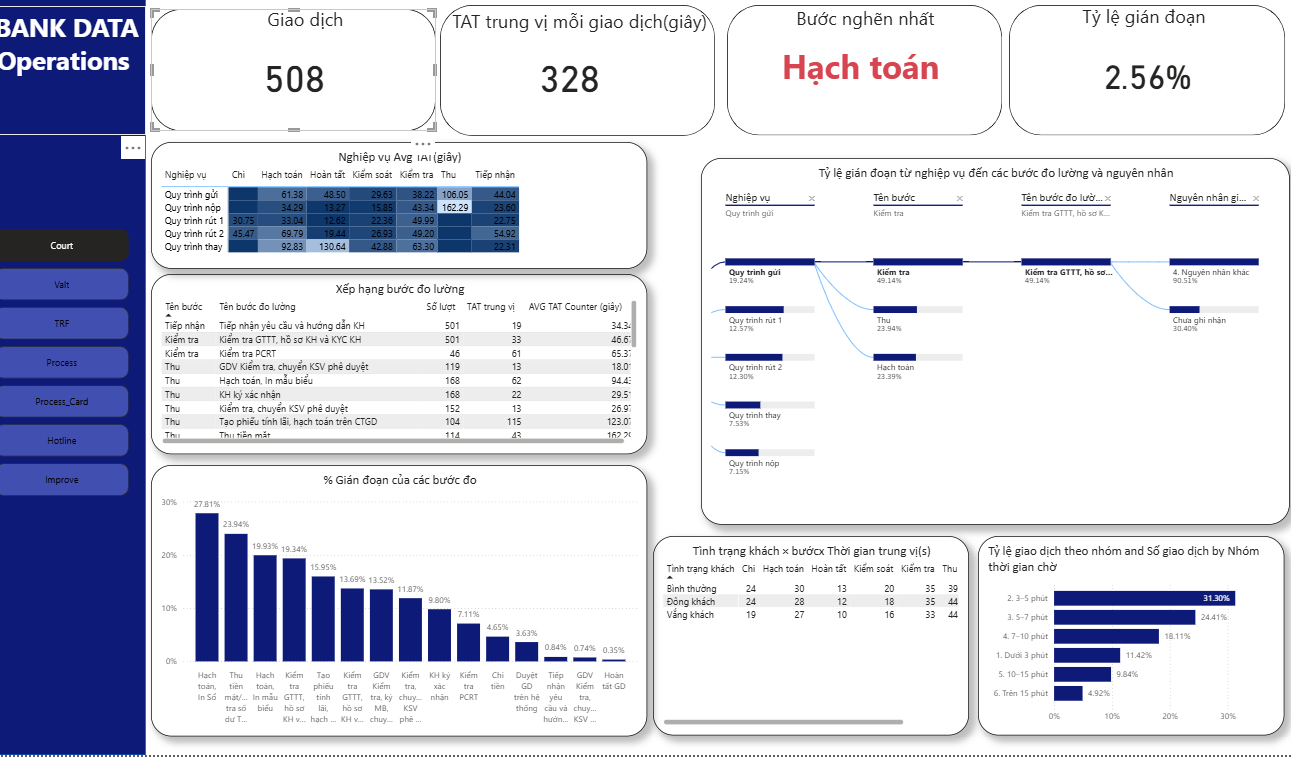

The dashboard page shown, as its layout file describes it:
{"tool":"powerbi","page":{"name":"Court","canvas":[1920,1109],"ordinal":0},"visuals":[{"type":"shape","box":[11,0,230.4,1109],"z":0},{"type":"textbox","box":[23.1,15.4,184.6,188.5],"z":1000},{"type":"pageNavigator","box":[22.1,340.7,195.9,394.5],"z":2000},{"type":"shape","box":[250,20.7,415.5,178.3],"z":3000},{"type":"textbox","box":[316.6,11.7,331.2,55.4],"z":4000},{"type":"cardVisual","fields":{"Data":["Measure_counter.Số giao dịch"]},"box":[394.8,66.9,173.5,93.9],"z":5000},{"type":"shape","box":[1500.7,15.2,402.8,190.4],"z":6000},{"type":"textbox","box":[1533.4,7.3,337,48.1],"z":7000},{"type":"cardVisual","fields":{"Data":["Measure_counter.Bước nghẽn nhất"]},"box":[1152.2,34.3,291,125.4],"z":8000},{"type":"shape","box":[1089.7,15.2,401.4,190.4],"z":9000},{"type":"textbox","box":[1121.4,9.7,339.3,56.6],"z":10000},{"type":"cardVisual","fields":{"Data":["Measure_counter.%Gián đoạn"]},"box":[1580.6,67.2,247.8,92.5],"z":11000},{"type":"shape","box":[671.8,14.3,401.2,191],"z":12000},{"type":"textbox","box":[675.9,15.2,398.6,56.6],"z":13000},{"type":"cardVisual","fields":{"Data":["Measure_counter.TAT Trung vị mỗi giao dịch (giây) Counter"]},"box":[800,67.6,182.1,93.8],"z":14000},{"type":"pivotTable","title":"Tình trạng khách × bướcx Thời gian trung vị(s)","fields":{"Rows":["Fact_Unit_01_Counter.Tình trạng khách"],"Values":["Measure_counter.TAT trung vị"],"Columns":["Dim_Unit_01_Counter _CácBước.Tên bước"]},"box":[982.2,790,461.1,291.1],"z":15000},{"type":"clusteredBarChart","fields":{"Category":["Fact_Unit_01_Counter.Nhóm thời gian chờ"],"Y":["Measure_counter.Tỷ lệ giao dịch theo nhóm"]},"box":[1456.7,790,446.7,291.1],"z":16000},{"type":"pivotTable","title":"Nghiệp vụ Avg TAT ","fields":{"Rows":["Dim_Unit_01_Counter _CácBước.Nghiệp vụ"],"Values":["Measure_counter.AVG TAT Counter (giây)"],"Columns":["Dim_Unit_01_Counter _CácBước.Tên bước"]},"box":[448.9,215.6,525.6,184.4],"z":18000},{"type":"clusteredColumnChart","title":"% Gián đoạn của các bước đo","fields":{"Category":["Dim_Unit_01_Counter _CácBước.Tên bước đo lường"],"Y":["Measure_counter.Tỷ lệ gián đoạn theo bước"]},"box":[250,685.6,724.4,395.6],"z":19000},{"type":"decompositionTreeVisual","title":"Tỷ lệ gián đoạn từ nghiệp vụ đến các bước đo lường và nguyên nhân","fields":{"ExplainBy":["Dim_Unit_01_Counter _CácBước.Nghiệp vụ","Dim_Unit_01_Counter _CácBước.Tên bước","Dim_Unit_01_Counter _CácBước.Tên bước đo lường","Fact_Unit_01_Counter.Nguyên nhân gián đoạn"],"Analyze":["Measure_counter.Tỷ lệ gián đoạn theo bước"]},"box":[1051.8,238.2,859.1,534.5],"z":20000},{"type":"tableEx","title":"Xếp hạng bước đo lường","fields":{"Values":["Dim_Unit_01_Counter _CácBước (2).Tên bước","Dim_Unit_01_Counter _CácBước.Tên bước đo lường","Measure_counter.Số lượt","Measure_counter.TAT trung vị","Measure_counter.AVG TAT Counter (giây)"]},"box":[250,407.8,724.4,263.3],"z":21000}]}

Visuals, with their boxes on the page's 1920x1109 design canvas (x1, y1, x2, y2). These are canvas units, not pixel positions in the 1291x760 screenshot, which may show the page scaled, cropped or inside an application window:
shape: rect(11, 0, 241, 1109)
textbox: rect(23, 15, 208, 204)
pageNavigator: rect(22, 341, 218, 735)
shape: rect(250, 21, 666, 199)
textbox: rect(317, 12, 648, 67)
cardVisual - Measure_counter.Số giao dịch: rect(395, 67, 568, 161)
shape: rect(1501, 15, 1904, 206)
textbox: rect(1533, 7, 1870, 55)
cardVisual - Measure_counter.Bước nghẽn nhất: rect(1152, 34, 1443, 160)
shape: rect(1090, 15, 1491, 206)
textbox: rect(1121, 10, 1461, 66)
cardVisual - Measure_counter.%Gián đoạn: rect(1581, 67, 1828, 160)
shape: rect(672, 14, 1073, 205)
textbox: rect(676, 15, 1074, 72)
cardVisual - Measure_counter.TAT Trung vị mỗi giao dịch (giây) Counter: rect(800, 68, 982, 161)
"Tình trạng khách × bướcx Thời gian trung vị(s)" pivotTable: rect(982, 790, 1443, 1081)
clusteredBarChart - Fact_Unit_01_Counter.Nhóm thời gian chờ x Measure_counter.Tỷ lệ giao dịch theo nhóm: rect(1457, 790, 1903, 1081)
"Nghiệp vụ Avg TAT " pivotTable: rect(449, 216, 974, 400)
"% Gián đoạn của các bước đo" clusteredColumnChart: rect(250, 686, 974, 1081)
"Tỷ lệ gián đoạn từ nghiệp vụ đến các bước đo lường và nguyên nhân" decompositionTreeVisual: rect(1052, 238, 1911, 773)
"Xếp hạng bước đo lường" tableEx: rect(250, 408, 974, 671)
